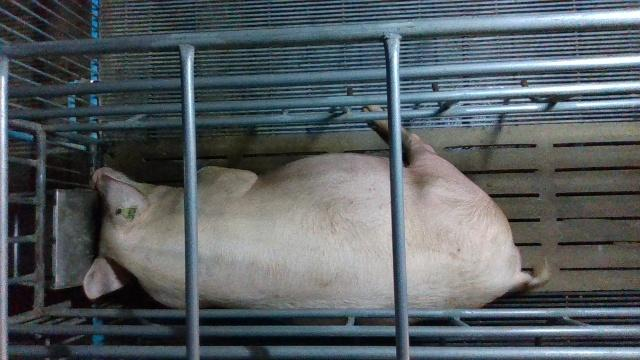sow-sleep: (84, 103, 550, 327)
